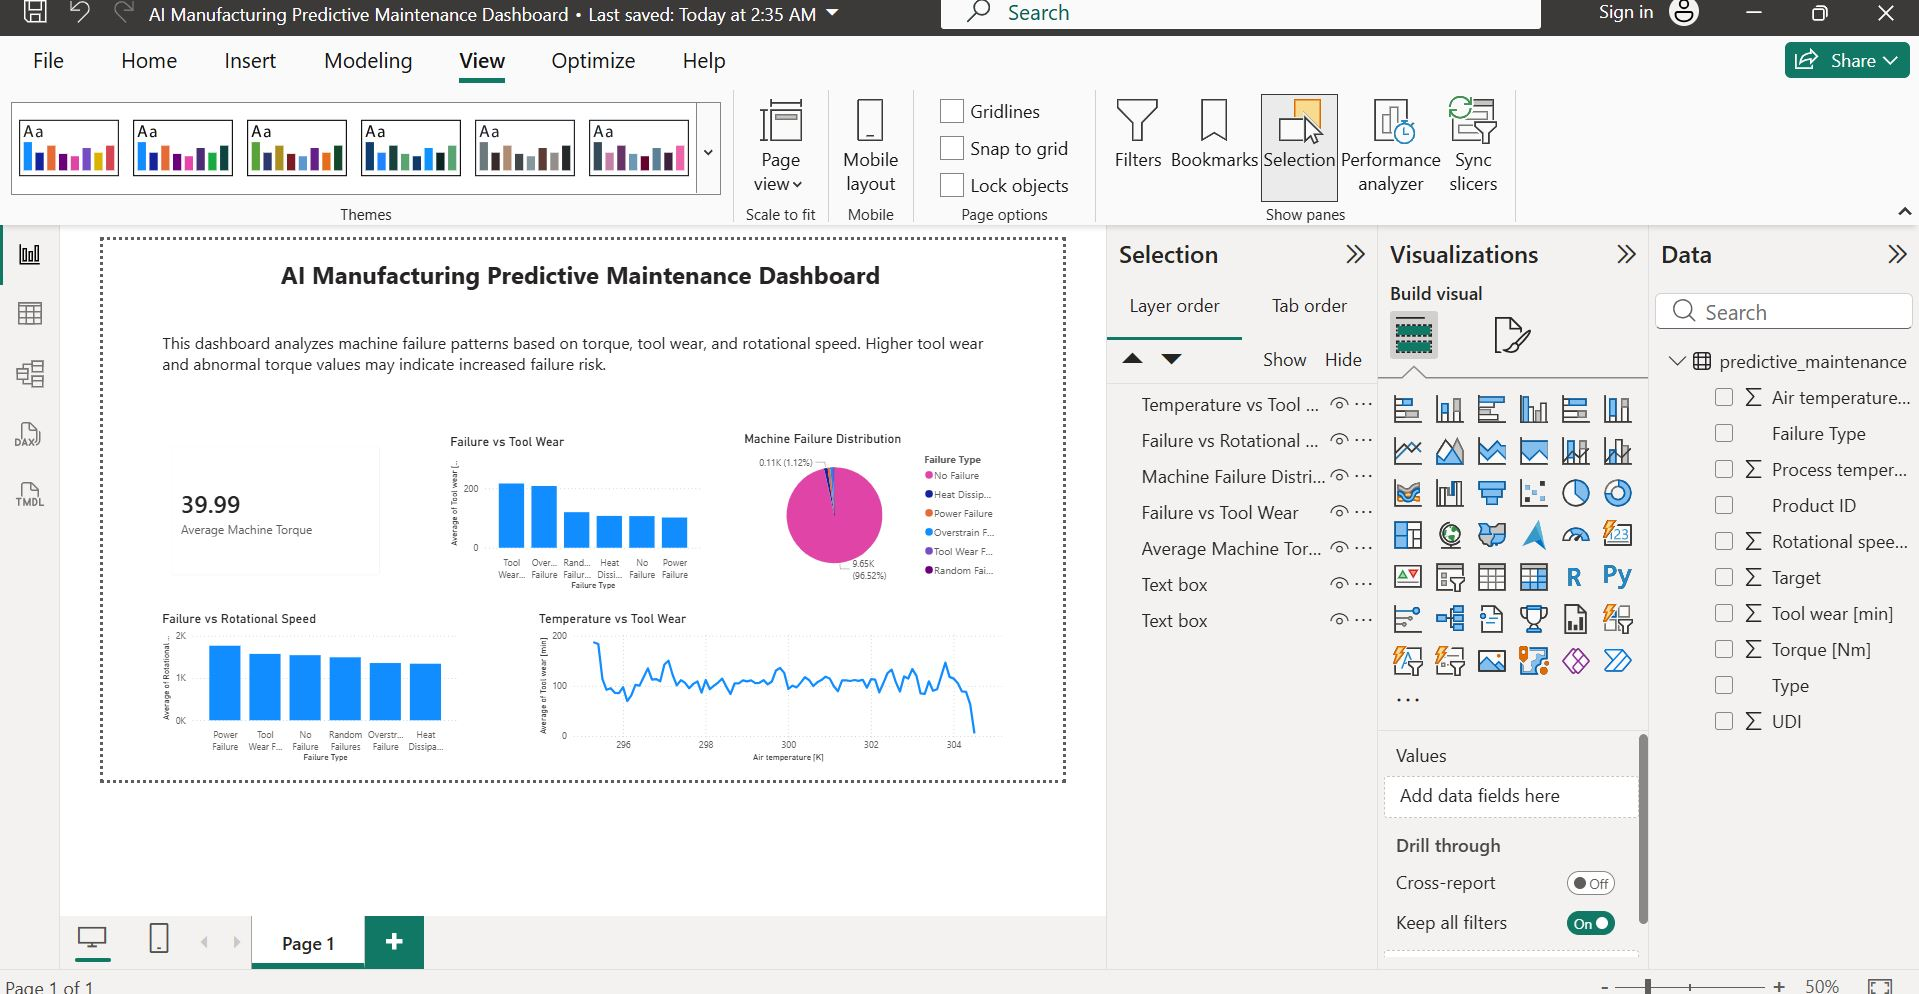

This screenshot's page, from the dashboard's own definition file:
{"tool":"powerbi","page":{"name":"Page 1","canvas":[1280,720],"ordinal":0},"visuals":[{"type":"textbox","box":[74,116,1130,160],"z":0},{"type":"textbox","box":[230.6,36.6,828.7,79.5],"z":1000},{"type":"cardVisual","title":"Average Machine Torque","fields":{"Data":["Avg(predictive_maintenance.Torque [Nm])"]},"box":[74.3,229.5,241.4,205.7],"z":2000},{"type":"clusteredColumnChart","title":"Failure vs Tool Wear","fields":{"Category":["predictive_maintenance.Failure Type"],"Y":["Avg(predictive_maintenance.Tool wear [min])"]},"box":[370,211.4,342.9,211.4],"z":3000},{"type":"pieChart","title":"Machine Failure Distribution","fields":{"Category":["predictive_maintenance.Target"],"Y":["CountNonNull(predictive_maintenance.Failure Type)"]},"box":[767.1,229.5,437.1,212.9],"z":4000},{"type":"clusteredColumnChart","title":"Failure vs Rotational Speed","fields":{"Category":["predictive_maintenance.Failure Type"],"Y":["Avg(predictive_maintenance.Rotational speed [rpm])"]},"box":[74.8,463.4,431.1,241.8],"z":5000},{"type":"lineChart","title":"Temperature vs Tool Wear","fields":{"Category":["predictive_maintenance.Air temperature [K]"],"Y":["Avg(predictive_maintenance.Tool wear [min])"]},"box":[561.5,463.4,642.6,206.8],"z":6000},{"type":"textbox","box":[408.8,90.7,461.3,50.9],"z":6001}]}

Visuals, with their boxes on the page's 1280x720 design canvas (x1, y1, x2, y2). These are canvas units, not pixel positions in the 1919x994 screenshot, which may show the page scaled, cropped or inside an application window:
textbox: detection(74, 116, 1204, 276)
textbox: detection(231, 37, 1059, 116)
"Average Machine Torque" cardVisual: detection(74, 230, 316, 435)
"Failure vs Tool Wear" clusteredColumnChart: detection(370, 211, 713, 423)
"Machine Failure Distribution" pieChart: detection(767, 230, 1204, 442)
"Failure vs Rotational Speed" clusteredColumnChart: detection(75, 463, 506, 705)
"Temperature vs Tool Wear" lineChart: detection(562, 463, 1204, 670)
textbox: detection(409, 91, 870, 142)
